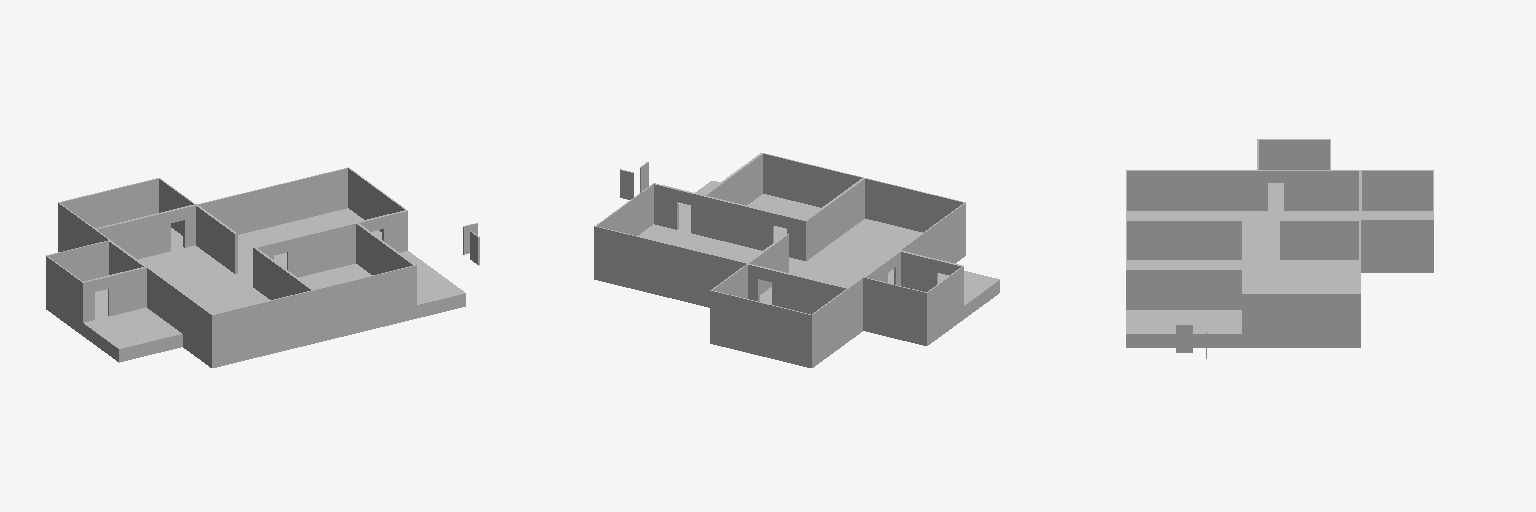
File: house_model.obj
3 renders of one model, left to right at view 1: azimuth 30°, elevation 25°; view 2: azimuth 150°, elevation 25°; view 3: azimuth 270°, elevation 25°, orthographic.
Parts seen in each view (by area): view 1: Cube.004_Material.018, Cube.007_Material.008, Cube.010_Material.019, Cube.024_Material.051, Cube.009_Material.010, Cube.016_Material.032, Cube.022_Material.056, Cube.017_Material.033, Cube.001_Material.001, Cube.023_Material.055, Cube.005_Material.006, Cube.006_Material.007 (+10 smaller); view 2: Cube.004_Material.018, Cube.010_Material.019, Cube.024_Material.051, Cube.007_Material.008, Cube.022_Material.056, Cube.001_Material.001, Cube.016_Material.032, Cube.013_Material.029, Cube.002_Material.002, Cube.012_Material.028, Cube.017_Material.033, Cube.008_Material.009 (+10 smaller); view 3: Cube.001_Material.001, Cube.017_Material.033, Cube.018_Material.034, Cube.002_Material.002, Cube.021_Material.025, Cube.012_Material.028, Cube.006_Material.007, Cube.007_Material.008, Cube.026_Material.045, Cube.003_Material.027, Cube.015_Material.049, Cube.014_Material.030 (+2 smaller).
Boxes of the visible parts, x1,y1,x2,y2 form: Cube.004_Material.018: [211, 266, 414, 354]; Cube.007_Material.008: [138, 245, 313, 367]; Cube.010_Material.019: [197, 167, 348, 234]; Cube.024_Material.051: [253, 210, 407, 287]; Cube.009_Material.010: [82, 307, 182, 362]; Cube.016_Material.032: [94, 204, 195, 259]; Cube.022_Material.056: [58, 178, 158, 242]; Cube.017_Material.033: [147, 267, 212, 353]; Cube.001_Material.001: [237, 208, 381, 285]; Cube.023_Material.055: [82, 267, 146, 322]; Cube.005_Material.006: [299, 264, 414, 343]; Cube.006_Material.007: [400, 251, 465, 318]; Cube.004_Material.018: [762, 153, 965, 232]; Cube.010_Material.019: [594, 226, 746, 293]; Cube.024_Material.051: [653, 183, 807, 260]; Cube.007_Material.008: [760, 219, 965, 340]; Cube.022_Material.056: [710, 290, 812, 354]; Cube.001_Material.001: [594, 224, 804, 307]; Cube.016_Material.032: [747, 263, 848, 328]; Cube.013_Material.029: [863, 277, 927, 332]; Cube.002_Material.002: [804, 177, 864, 260]; Cube.012_Material.028: [811, 277, 863, 354]; Cube.017_Material.033: [899, 203, 965, 259]; Cube.008_Material.009: [710, 329, 848, 367]; Cube.001_Material.001: [1243, 260, 1360, 347]; Cube.017_Material.033: [1127, 170, 1258, 210]; Cube.018_Material.034: [1126, 269, 1241, 309]; Cube.002_Material.002: [1126, 219, 1241, 259]; Cube.021_Material.025: [1243, 294, 1360, 333]; Cube.012_Material.028: [1330, 170, 1433, 210]; Cube.006_Material.007: [1126, 310, 1242, 347]; Cube.007_Material.008: [1127, 210, 1358, 259]; Cube.026_Material.045: [1280, 219, 1358, 259]; Cube.003_Material.027: [1361, 219, 1433, 259]; Cube.015_Material.049: [1258, 170, 1330, 210]; Cube.014_Material.030: [1258, 139, 1329, 169].
Bounding box in the file's own units: 58.1 × 8 × 42.